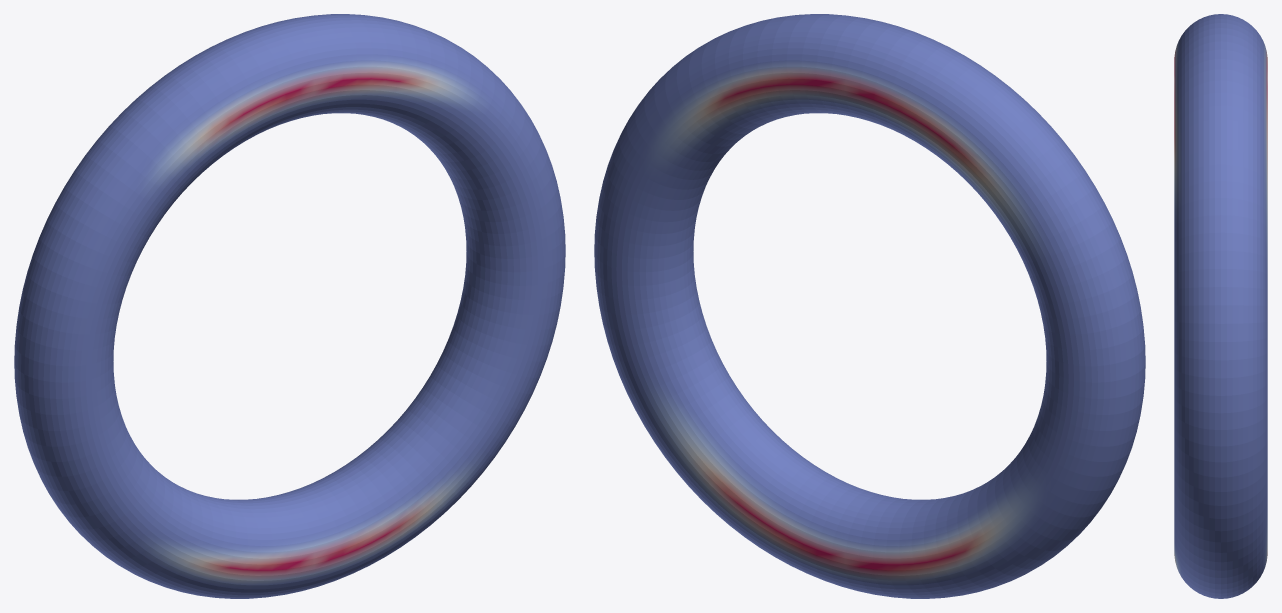
The picture shows the model from 3 angles, left to right: view 1: azimuth 30°, elevation 25°; view 2: azimuth 150°, elevation 25°; view 3: azimuth 270°, elevation 25°; orthographic projection. The views are drawn at different scales.
Visible parts, largest first — view 1: world; view 2: world; view 3: world.
Part boxes in pixels (left/top/right/bottom): world: left=14, top=14, right=565, bottom=598; world: left=594, top=14, right=1145, bottom=598; world: left=1174, top=14, right=1267, bottom=598.
Bounding box in the file's own units: 15.87 × 15.87 × 2.53.
